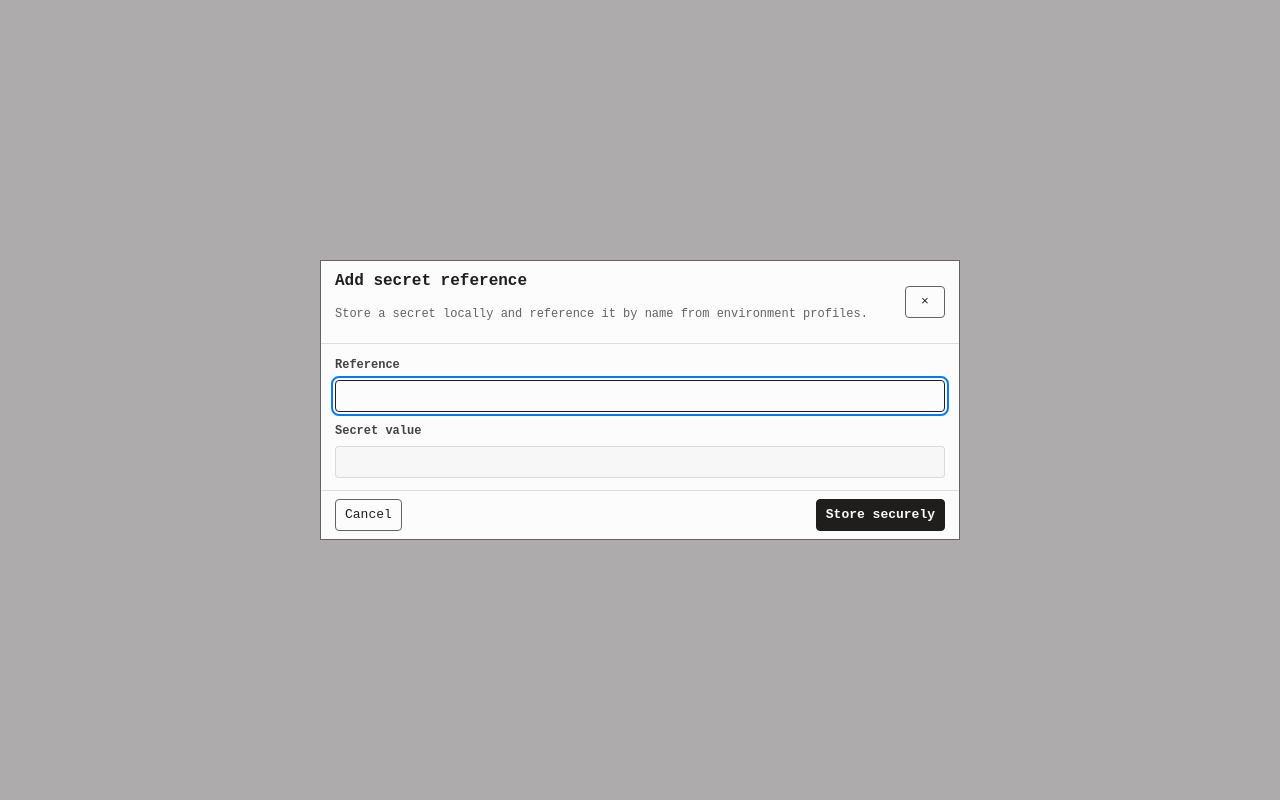
Test case: secret creation reports storage failures without closing: {}
Type "DEPLOY_TOKEN" into the field labelled "Reference".
click(640, 396); type("DEPLOY_TOKEN")  # box 335,380 -> 945,412
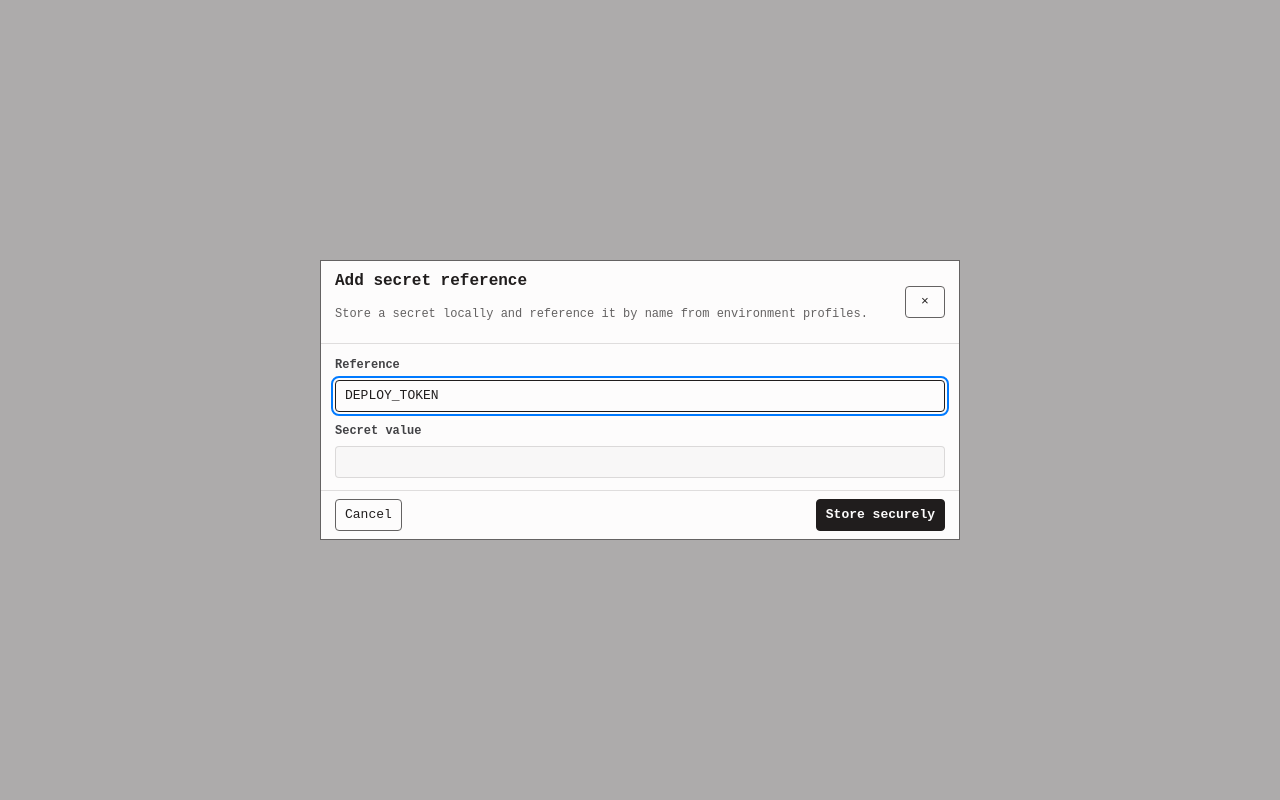
Type "secret-value" into the password field labelled "Secret value".
click(640, 462); type("secret-value")  # box 335,446 -> 945,478
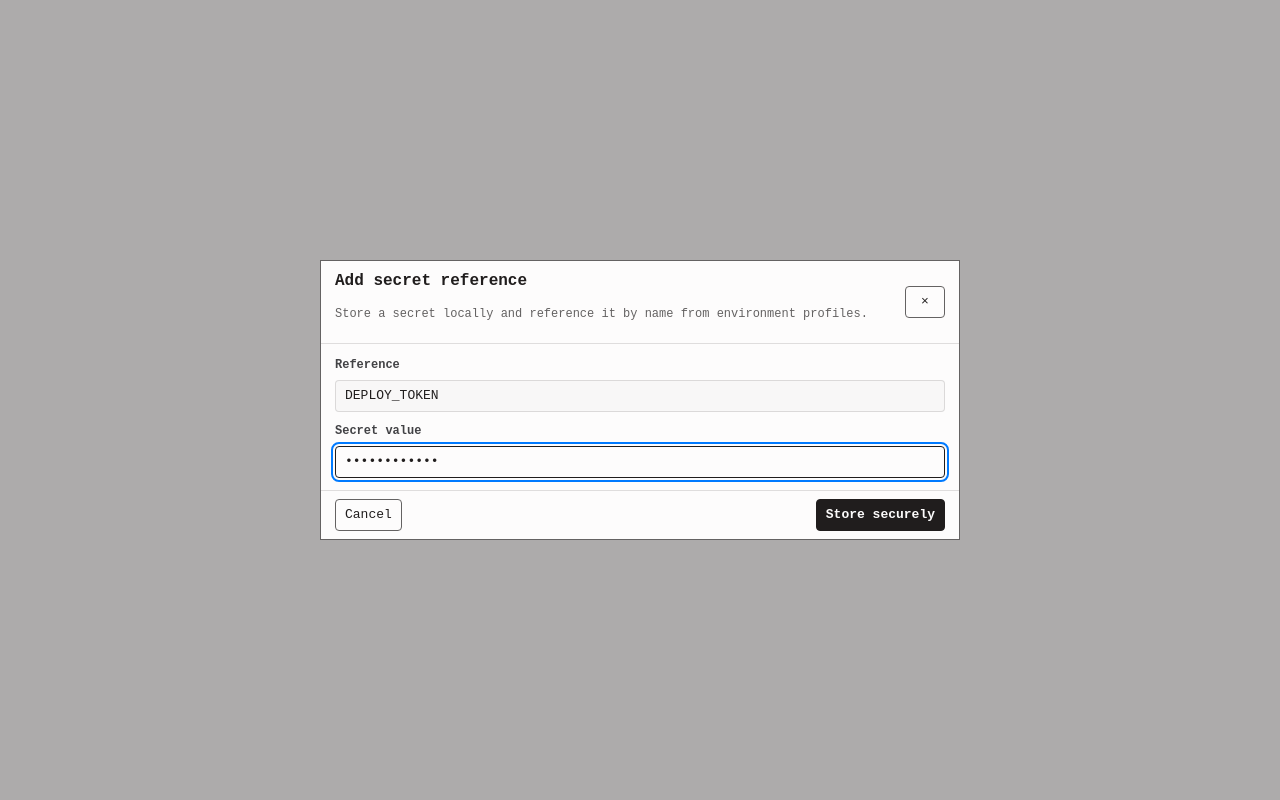
Click the button "Store securely".
click(880, 515)  # box 816,499 -> 945,531
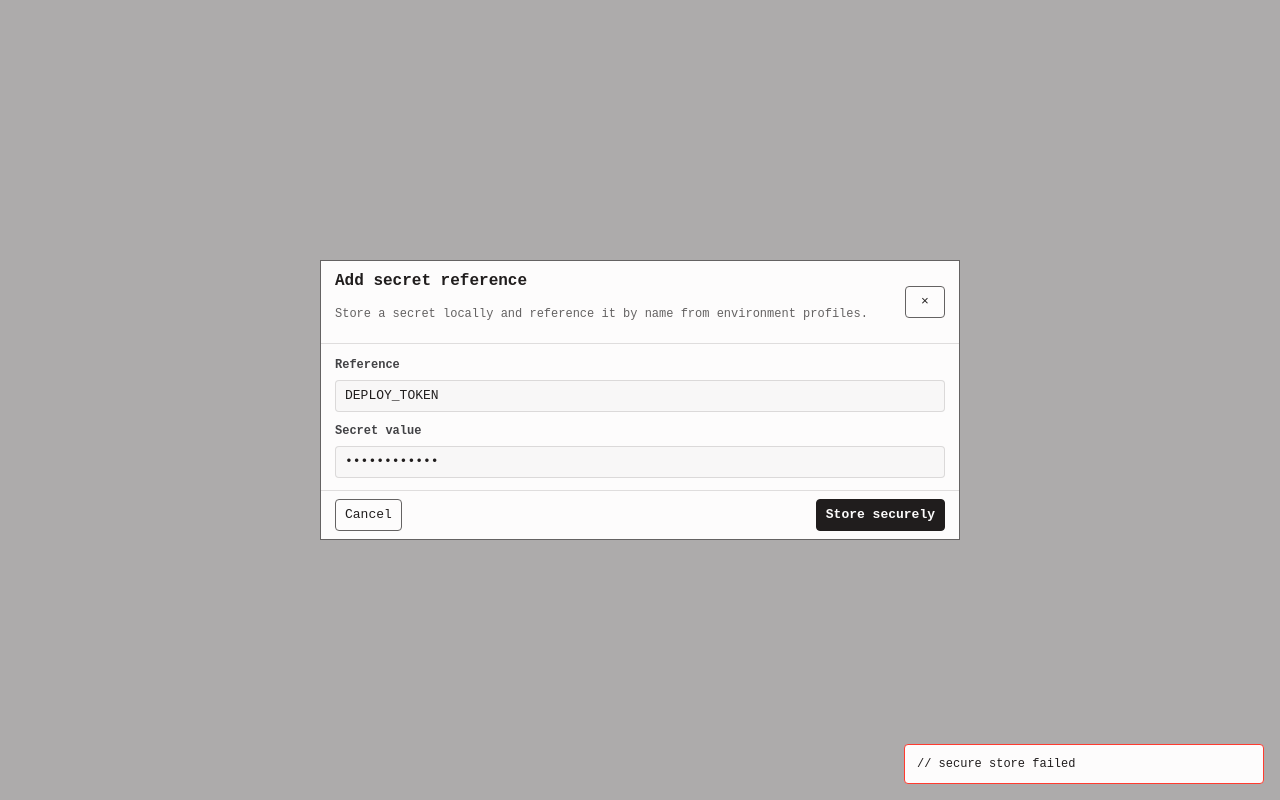
Now the message reads "secure store failed", box 939,757 -> 1075,771
